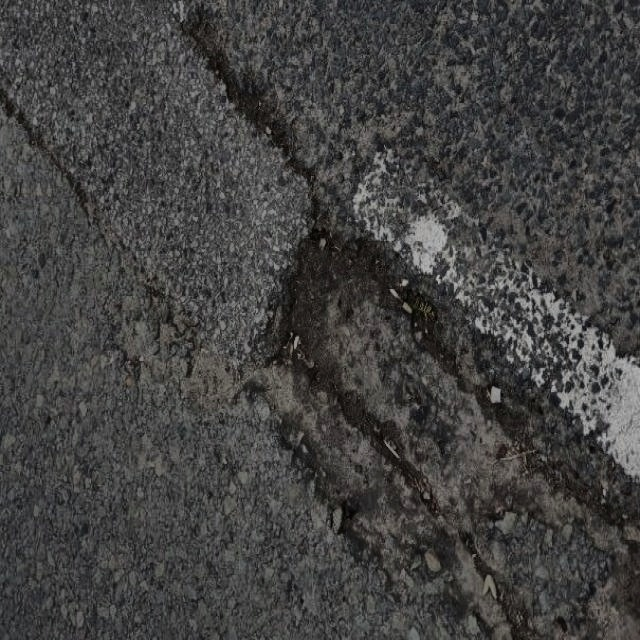Pothole: (237, 188, 552, 534)
